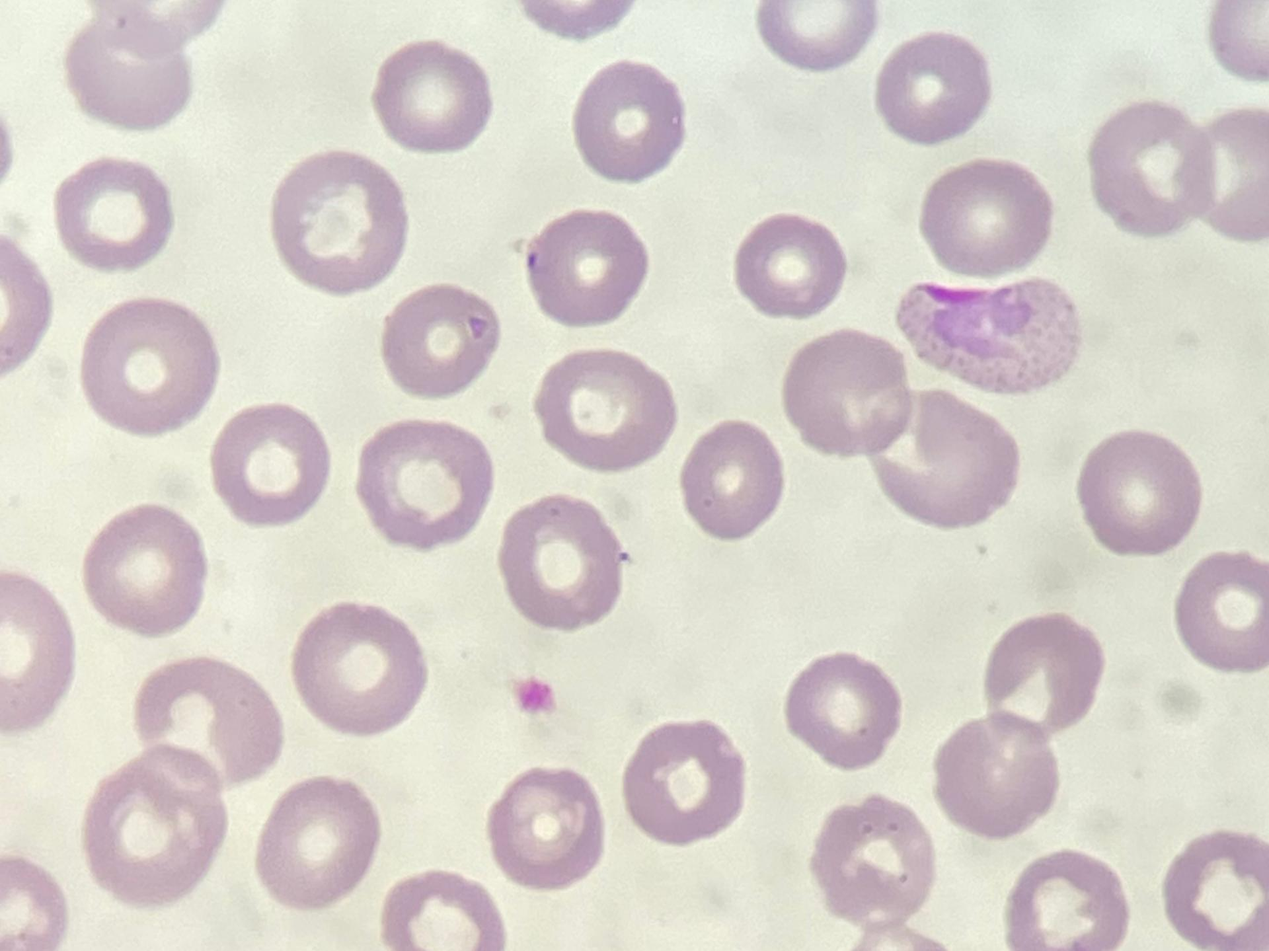Infected: (896, 271, 1086, 394)
Uninfected: (83, 745, 227, 909), (134, 653, 285, 796), (869, 394, 1021, 531), (271, 151, 409, 296), (292, 598, 432, 738), (83, 296, 217, 437), (534, 347, 679, 473), (354, 420, 494, 548), (1087, 99, 1218, 234), (83, 504, 210, 639), (501, 494, 625, 631), (785, 327, 913, 458), (621, 717, 748, 847), (815, 792, 937, 926), (256, 779, 383, 906), (487, 764, 607, 892), (1082, 428, 1201, 557), (988, 615, 1106, 744), (208, 403, 330, 526), (63, 12, 191, 129), (370, 35, 494, 155), (935, 717, 1056, 839), (924, 162, 1053, 276), (381, 282, 503, 399), (527, 210, 650, 324), (56, 157, 174, 273), (788, 651, 900, 773), (575, 60, 684, 185), (877, 28, 992, 144), (1160, 833, 1269, 951), (1006, 848, 1130, 951), (1175, 109, 1269, 244), (684, 420, 786, 542), (1173, 551, 1269, 675), (737, 212, 847, 317), (382, 871, 506, 950), (755, 0, 880, 74)
